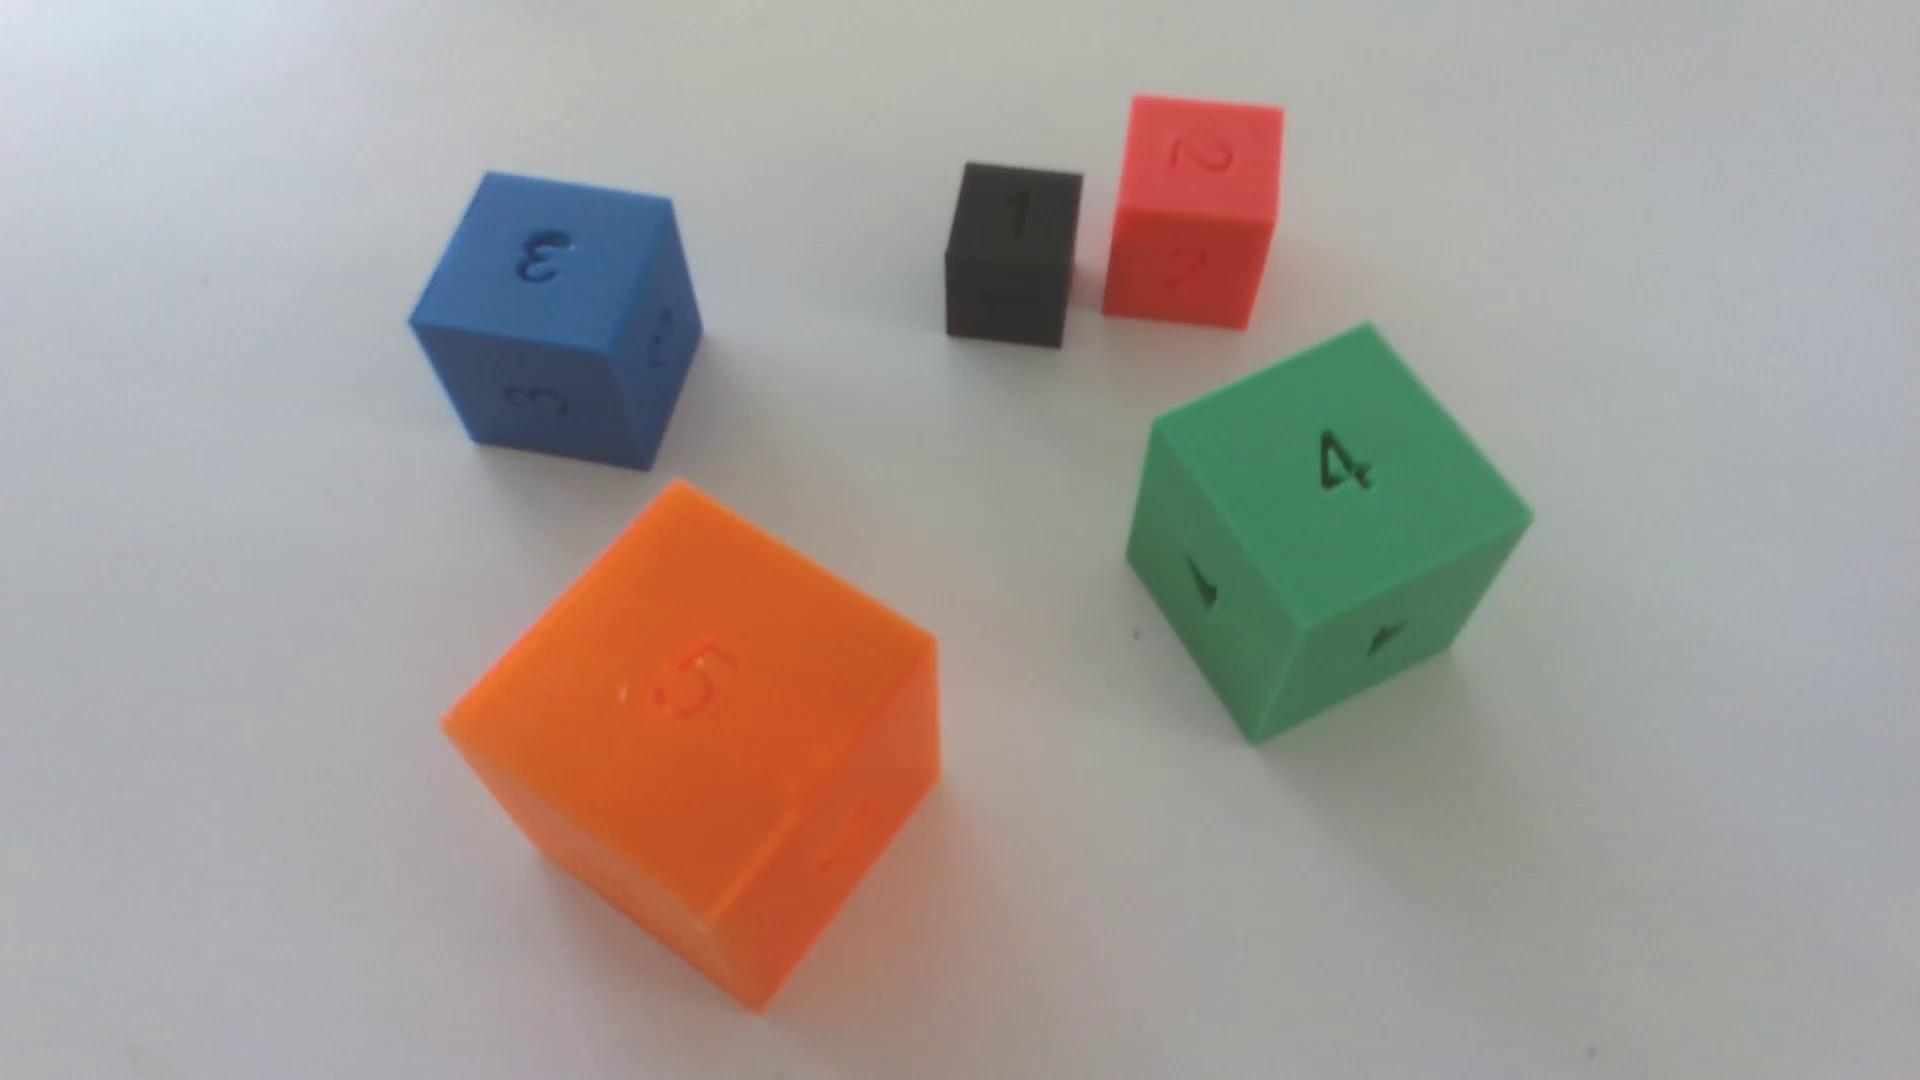black: (943, 164, 1083, 349)
blue: (409, 174, 702, 471)
green: (1126, 326, 1530, 744)
orange: (444, 483, 940, 1009)
red: (1102, 96, 1284, 331)
